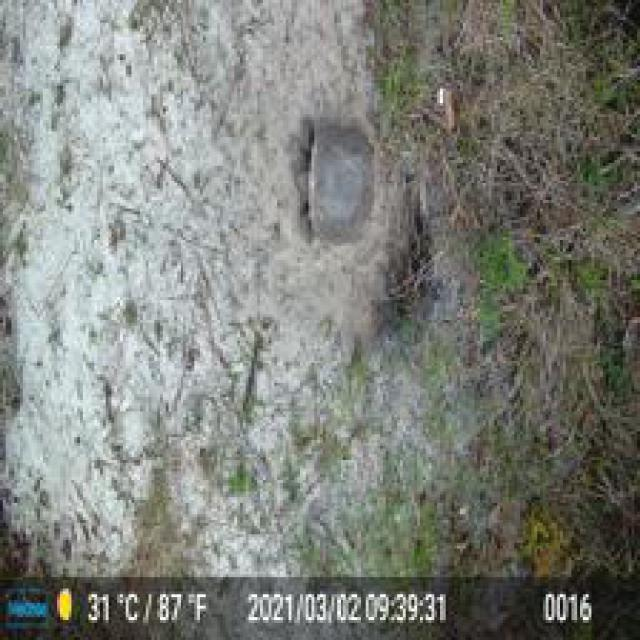tortoise: (289, 114, 381, 248)
